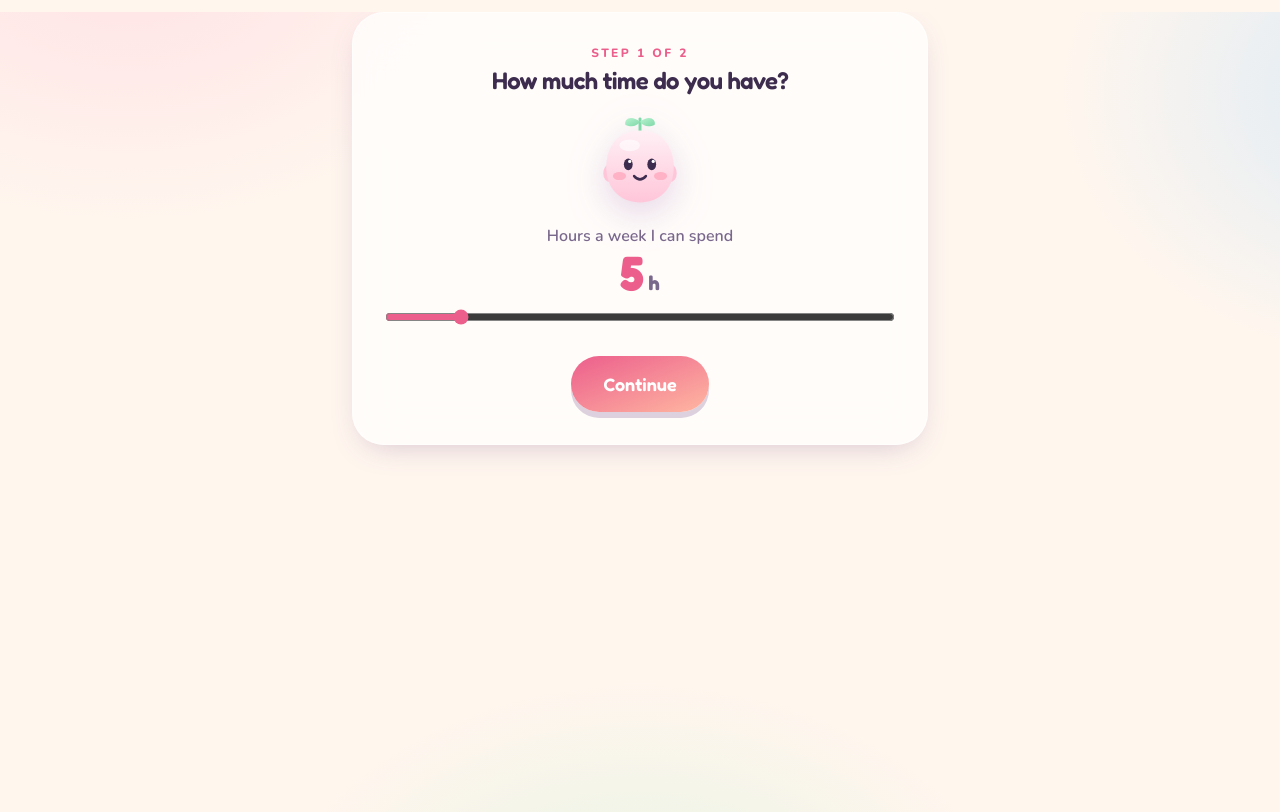
it: PlacementQuiz › asks weekly hours first, then short know-it questions, then reports the result
Later steps or results of the test are not shown.
Expected: the slider labelled "Hours a week I can spend" holds "5", [385, 309, 895, 325]
Click the button "Continue".
click(640, 384)  # box [571, 356, 709, 412]
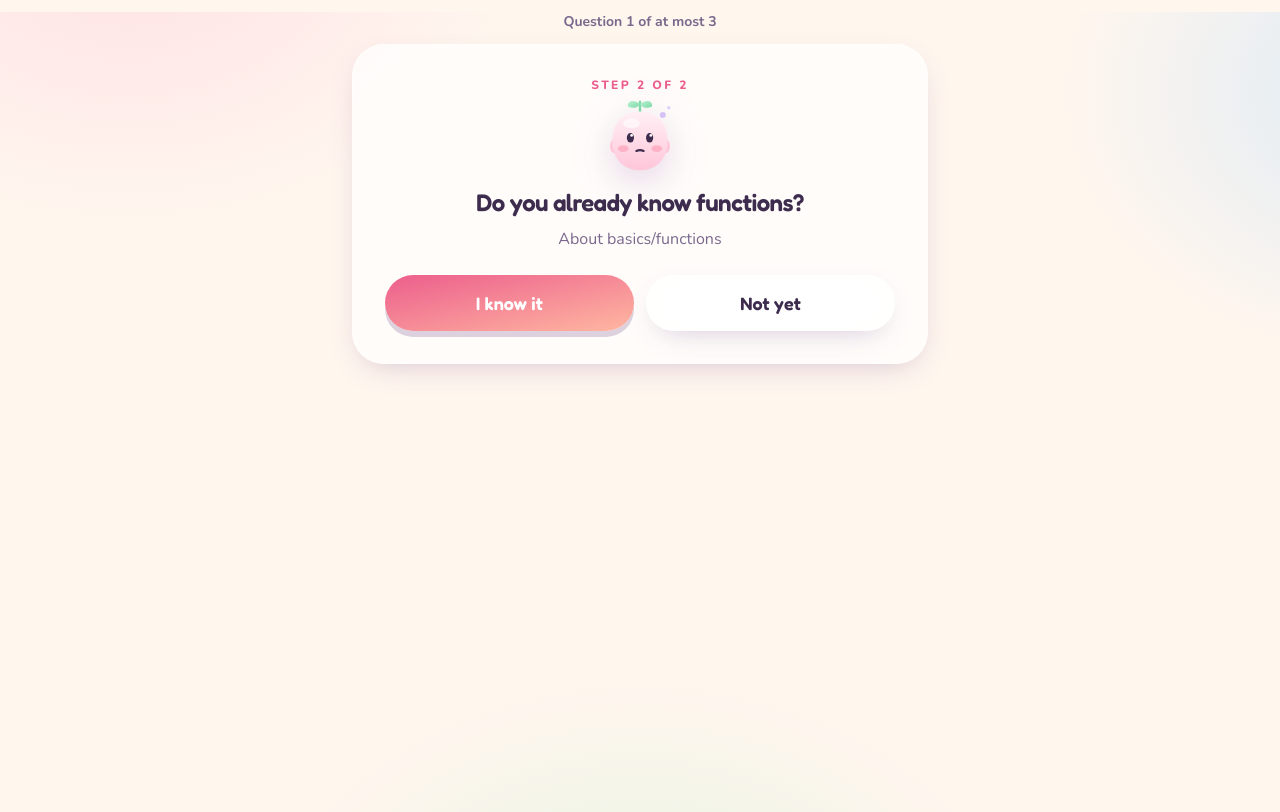
Result: the heading "Do you already know functions?" is shown at [476, 188, 804, 217]
Click the button "I know it".
click(510, 303)  # box [385, 275, 634, 331]
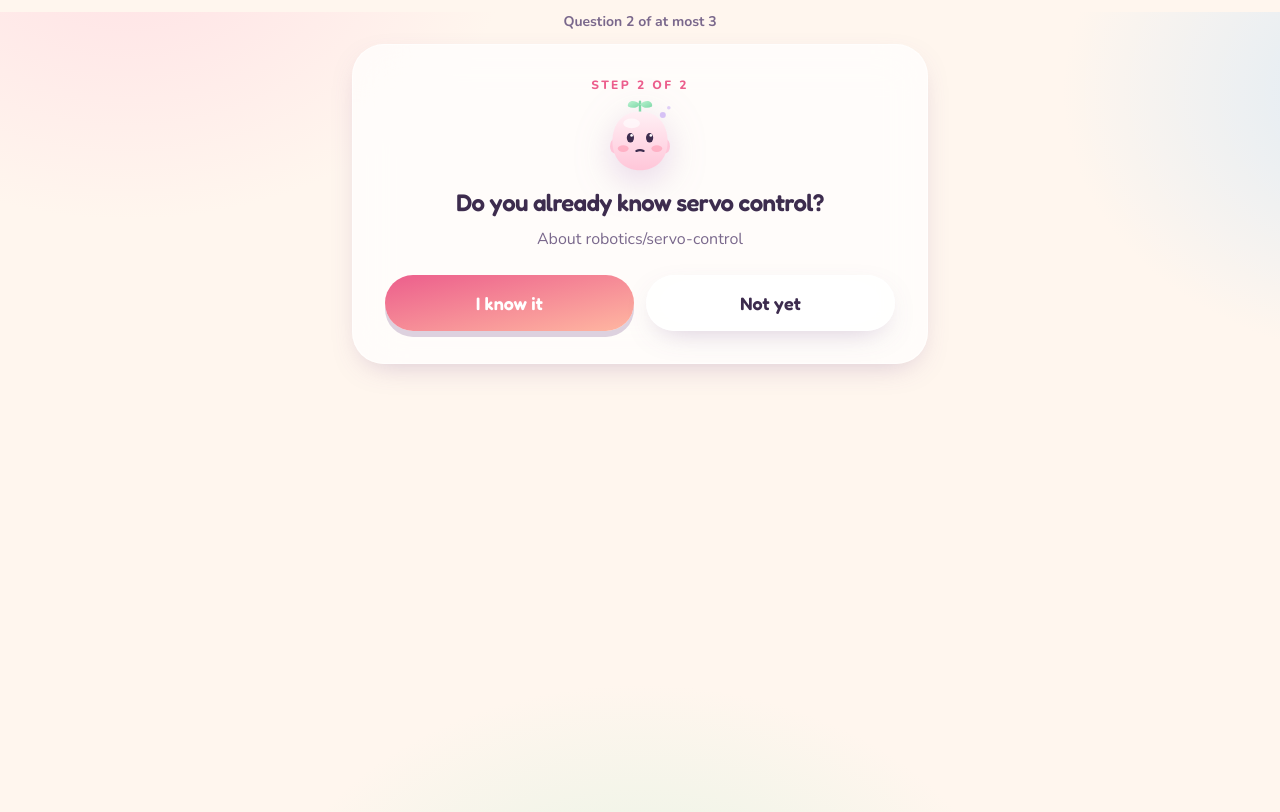
Result: the heading "Do you already know servo control?" is shown at [456, 188, 824, 217]
